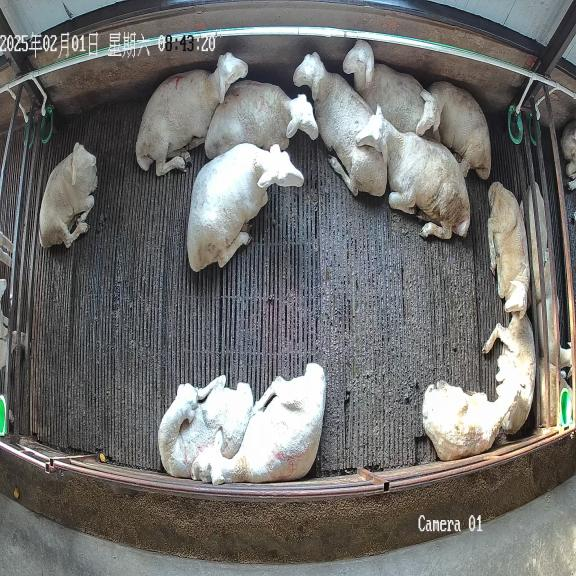lying: (191, 363, 326, 485), (356, 106, 470, 239), (187, 143, 304, 271), (136, 53, 248, 176), (293, 52, 387, 196), (158, 375, 253, 478), (205, 80, 319, 159), (422, 378, 521, 460), (343, 40, 424, 132), (416, 81, 491, 179), (483, 311, 536, 434), (39, 143, 97, 248), (488, 182, 530, 318)
